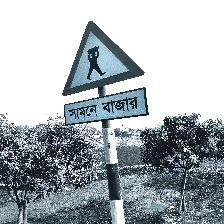Market-in-front: (62, 20, 148, 128)
